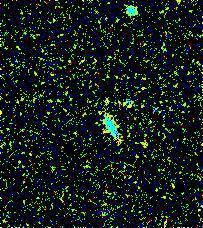star: (132, 131, 162, 161)
